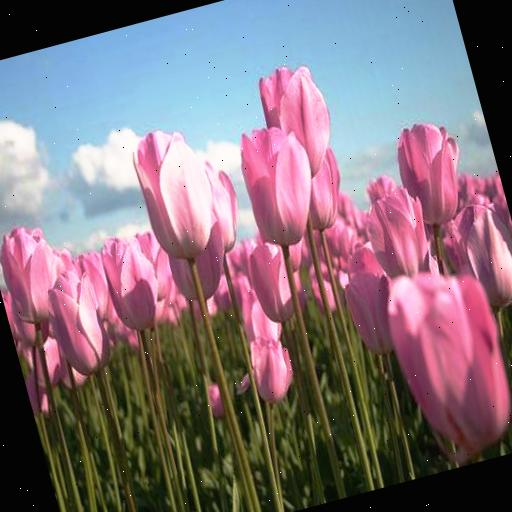tulip: (379, 254, 512, 452), (124, 119, 228, 267), (233, 116, 328, 250), (389, 112, 474, 226), (96, 226, 172, 334), (0, 217, 71, 325), (44, 268, 112, 376), (244, 331, 298, 402)
